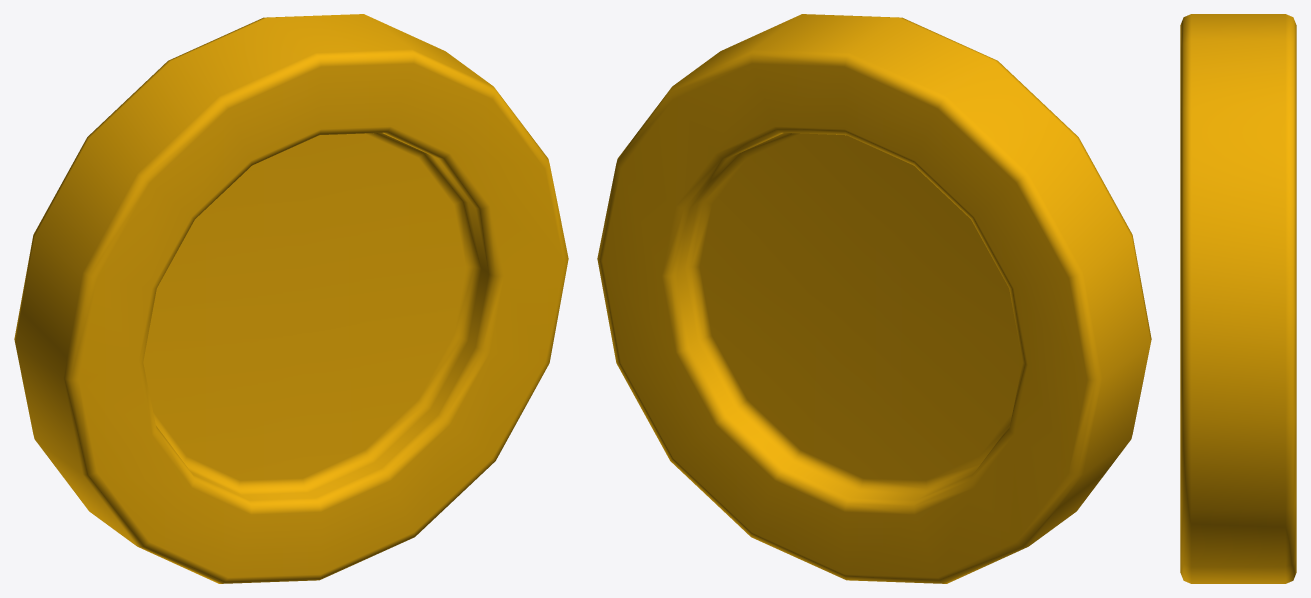
The picture shows the model from 3 angles, left to right: view 1: azimuth 30°, elevation 25°; view 2: azimuth 150°, elevation 25°; view 3: azimuth 270°, elevation 25°; orthographic projection. The views are drawn at different scales.
Parts seen in each view (by area): view 1: model_1.094; view 2: model_1.094; view 3: model_1.094.
Boxes of the visible parts, x1=… form: model_1.094: x1=14, y1=14, x2=568, y2=583; model_1.094: x1=597, y1=14, x2=1151, y2=583; model_1.094: x1=1180, y1=14, x2=1296, y2=583.
Bounding box in the file's own units: 3.3 × 3.3 × 0.6727.
